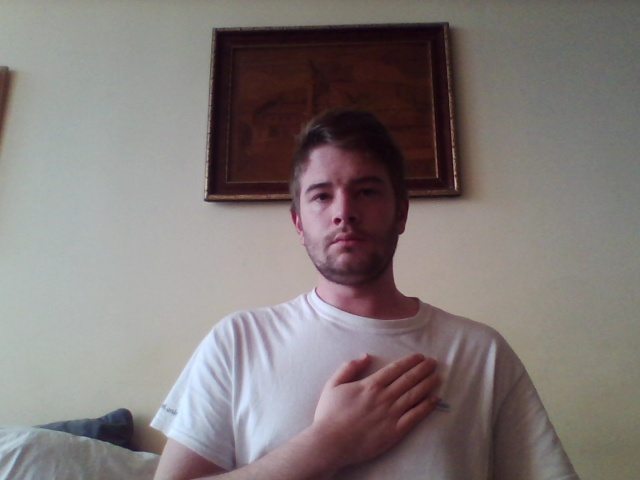molimte: (314, 346, 444, 469)
